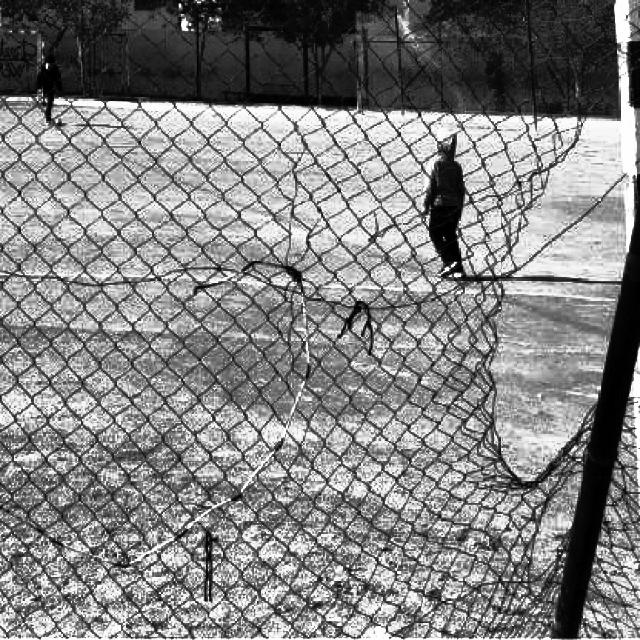anomaly-fence: (466, 55, 640, 640)
